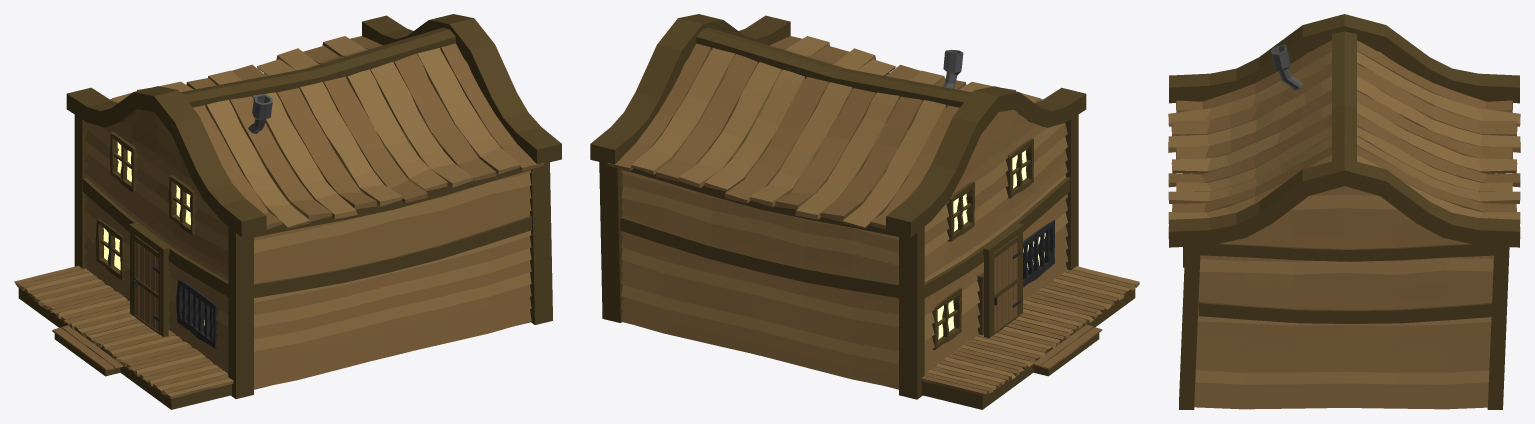
Rendered from store.glb.
3 renders of one model, left to right at view 1: azimuth 30°, elevation 25°; view 2: azimuth 150°, elevation 25°; view 3: azimuth 270°, elevation 25°, orthographic.
Parts seen in each view (by area): view 1: Cube.009, DoorPanel, DoorFrame; view 2: Cube.009, DoorPanel, DoorFrame; view 3: Cube.009.
Boxes of the visible parts, x1=… form: Cube.009: x1=14, y1=14, x2=561, y2=409; DoorPanel: x1=132, y1=233, x2=160, y2=334; DoorFrame: x1=129, y1=223, x2=169, y2=336; Cube.009: x1=590, y1=14, x2=1139, y2=409; DoorPanel: x1=992, y1=234, x2=1020, y2=335; DoorFrame: x1=983, y1=223, x2=1023, y2=338; Cube.009: x1=1168, y1=14, x2=1520, y2=409.
Bounding box in the file's own units: 12 × 7.19 × 9.23.
